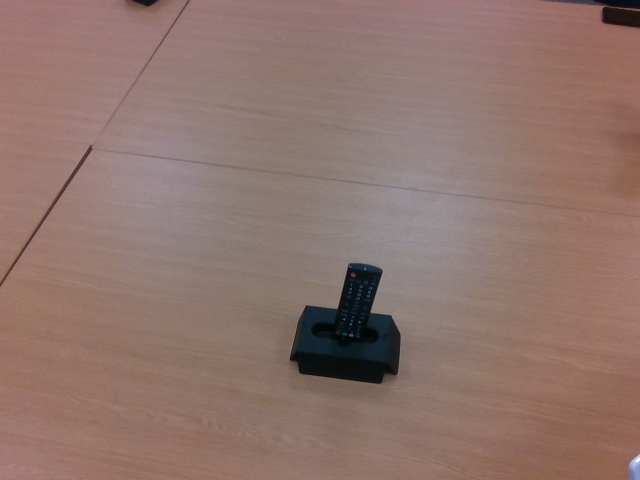remote: (333, 262, 383, 340)
